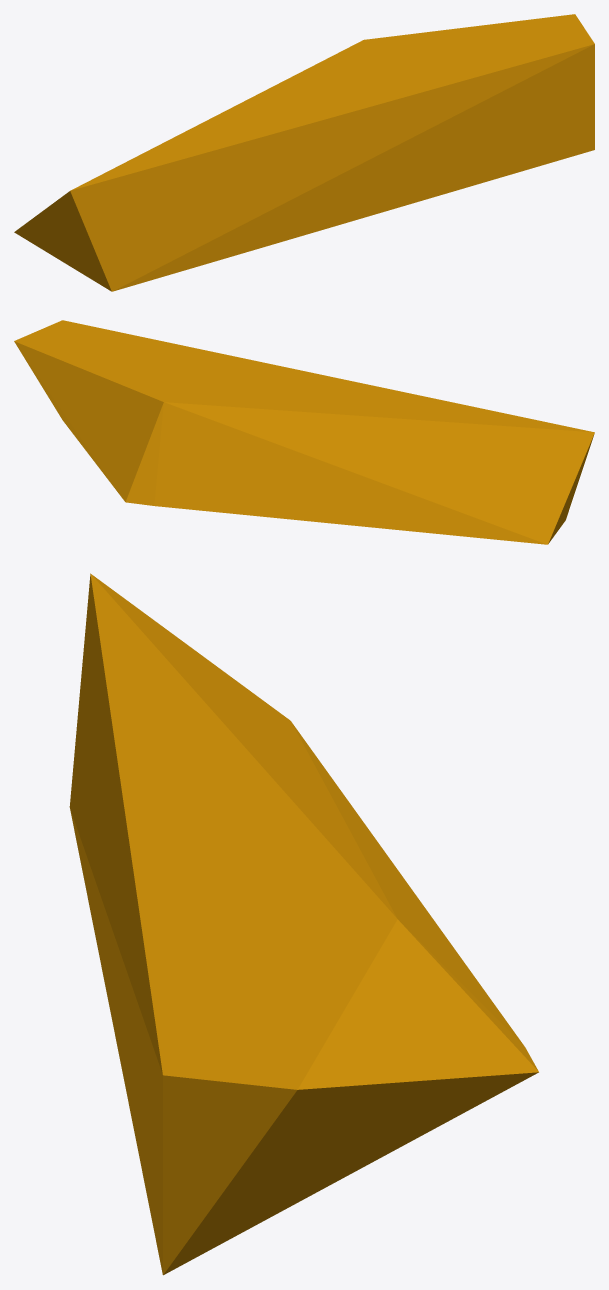
File: coffee_convex_piece_027.obj
3 views of the same model, one above another, from view 1: azimuth 30°, elevation 25°; view 2: azimuth 150°, elevation 25°; view 3: azimuth 270°, elevation 25° (orthographic). The views are drawn at different scales.
Bounding box in the file's own units: 0.000356 × 6.4e-05 × 0.000136.
